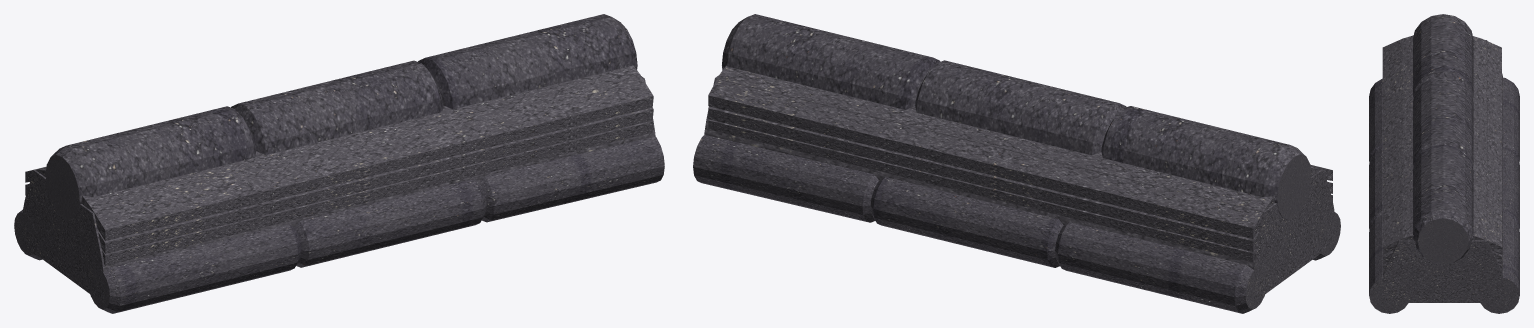
The model's file is SM_R_MiddleRoof_2.fbx.
3 renders of one model, left to right at view 1: azimuth 30°, elevation 25°; view 2: azimuth 150°, elevation 25°; view 3: azimuth 270°, elevation 25°, orthographic. The views are drawn at different scales.
Visible parts, largest first — view 1: SM_R_MiddleRoof_2; view 2: SM_R_MiddleRoof_2; view 3: SM_R_MiddleRoof_2.
Boxes of the visible parts, bbox=[...] form: SM_R_MiddleRoof_2: bbox=[14, 14, 664, 313]; SM_R_MiddleRoof_2: bbox=[693, 14, 1340, 313]; SM_R_MiddleRoof_2: bbox=[1369, 14, 1519, 313].
Size of the model in its own units: 171 by 53.56 by 40.44.
Materials: 1 (1 with a texture image).
